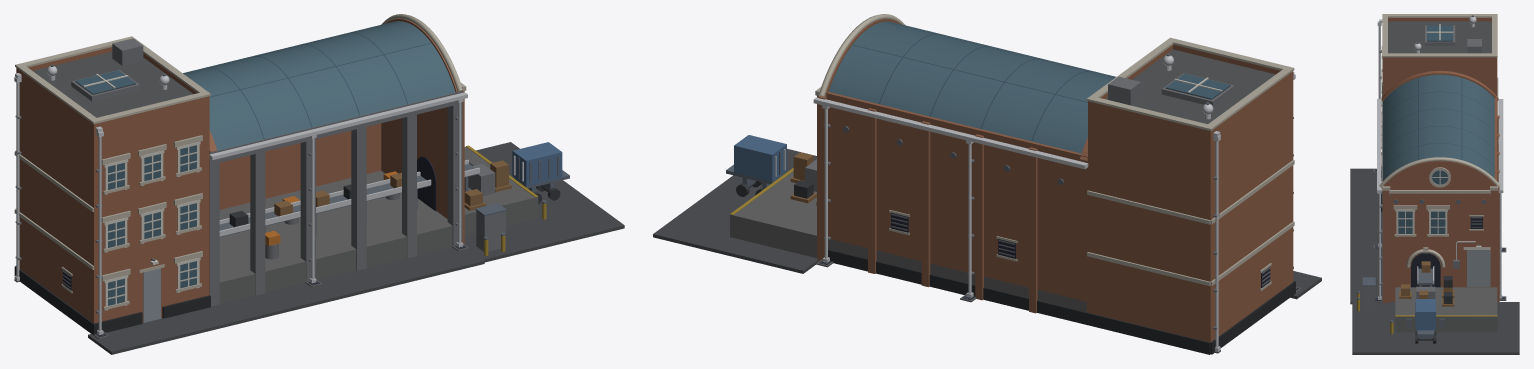
Rendered from assembly_plant_lvl2.glb.
3 views of the same model, side by side, from view 1: azimuth 30°, elevation 25°; view 2: azimuth 150°, elevation 25°; view 3: azimuth 270°, elevation 25° (orthographic). The views are drawn at different scales.
Parts seen in each view (by area): view 1: assembly_plant, assembly_plant_Glass; view 2: assembly_plant, assembly_plant_Glass; view 3: assembly_plant, assembly_plant_Glass.
Boxes of the visible parts, box(x1,y1,x2,y2) form: assembly_plant: box(14, 14, 624, 354); assembly_plant_Glass: box(75, 21, 455, 305); assembly_plant: box(653, 14, 1321, 354); assembly_plant_Glass: box(828, 21, 1230, 153); assembly_plant: box(1350, 14, 1519, 354); assembly_plant_Glass: box(1382, 25, 1494, 233).
Bounding box in the file's own units: 1 × 0.4153 × 0.3882.
